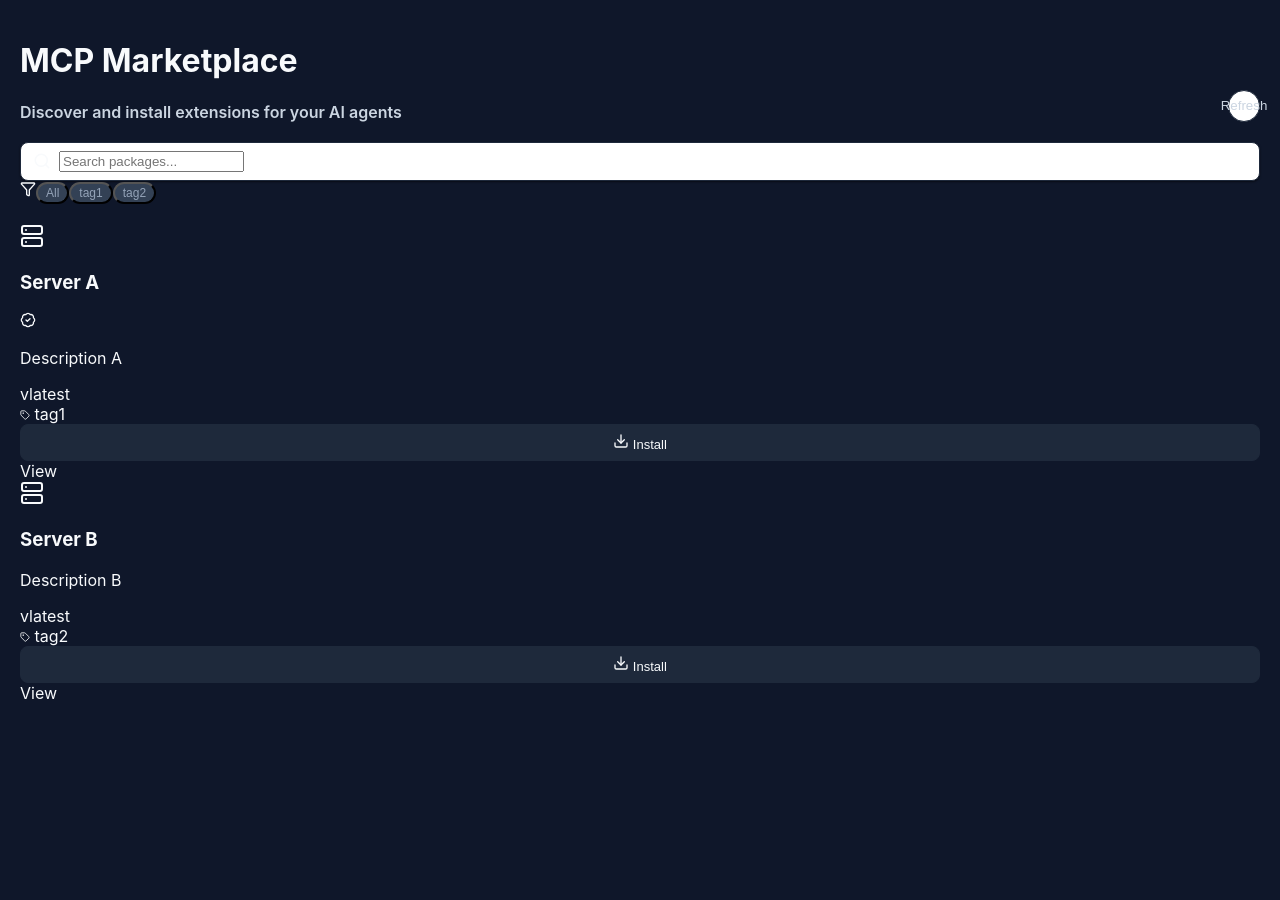
it: Marketplace renders and filters servers
expect the heading "Server A" is shown: met, box [20,271,99,294]
expect the heading "Server B" is shown: met, box [20,528,98,551]
Type "Server A" into the field with placeholder "Search packages..." at point(152, 161), box [59,151,244,172]
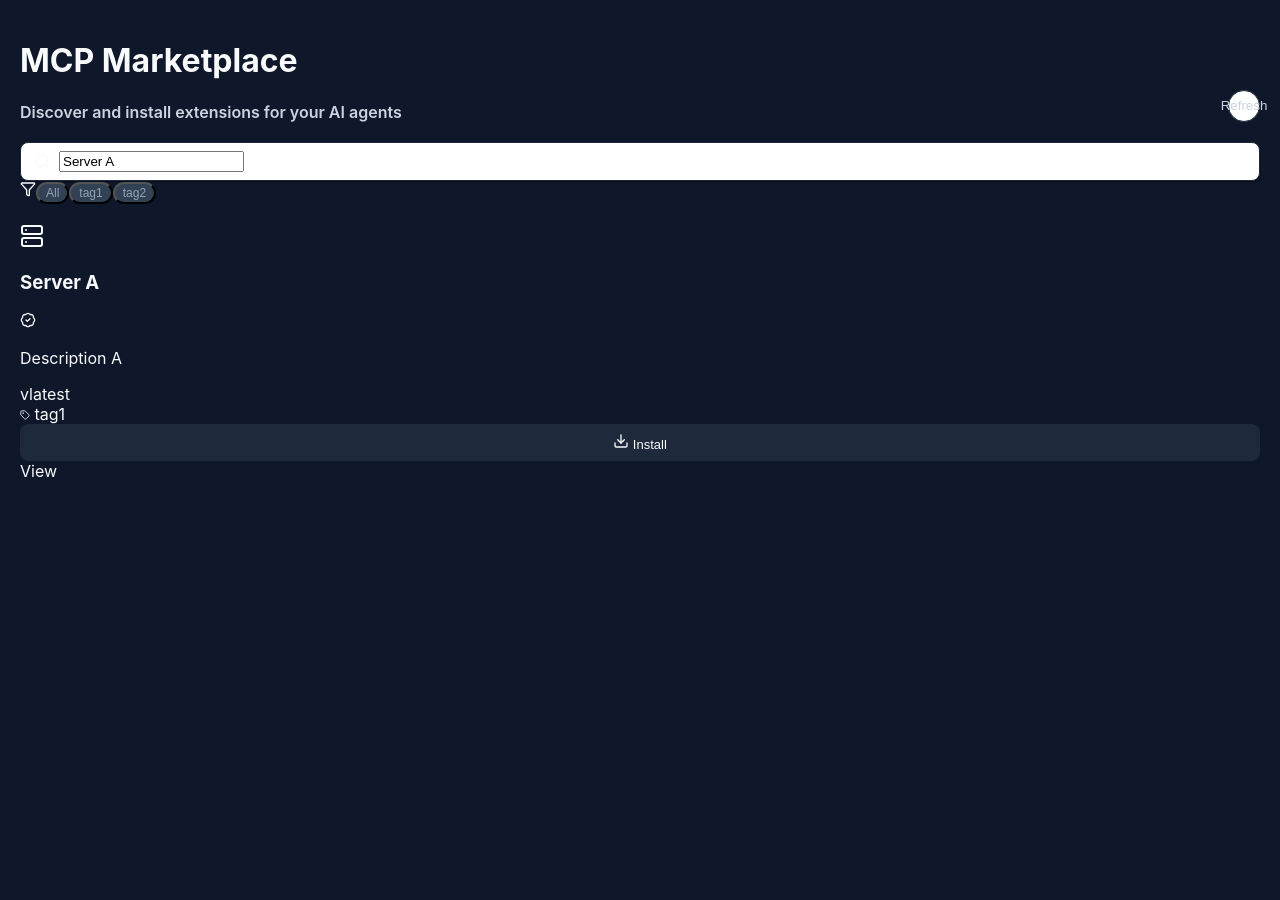
expect the heading "Server B" is gone: met
